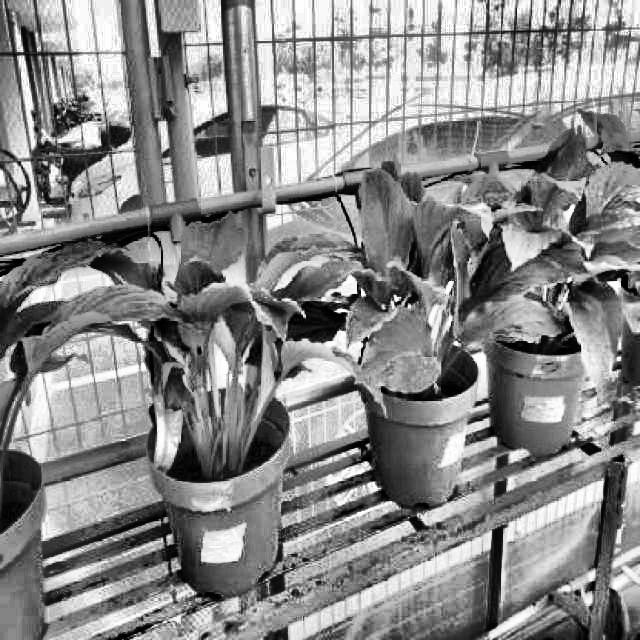plants: (0, 224, 352, 495), (348, 144, 536, 406), (478, 112, 640, 386)
